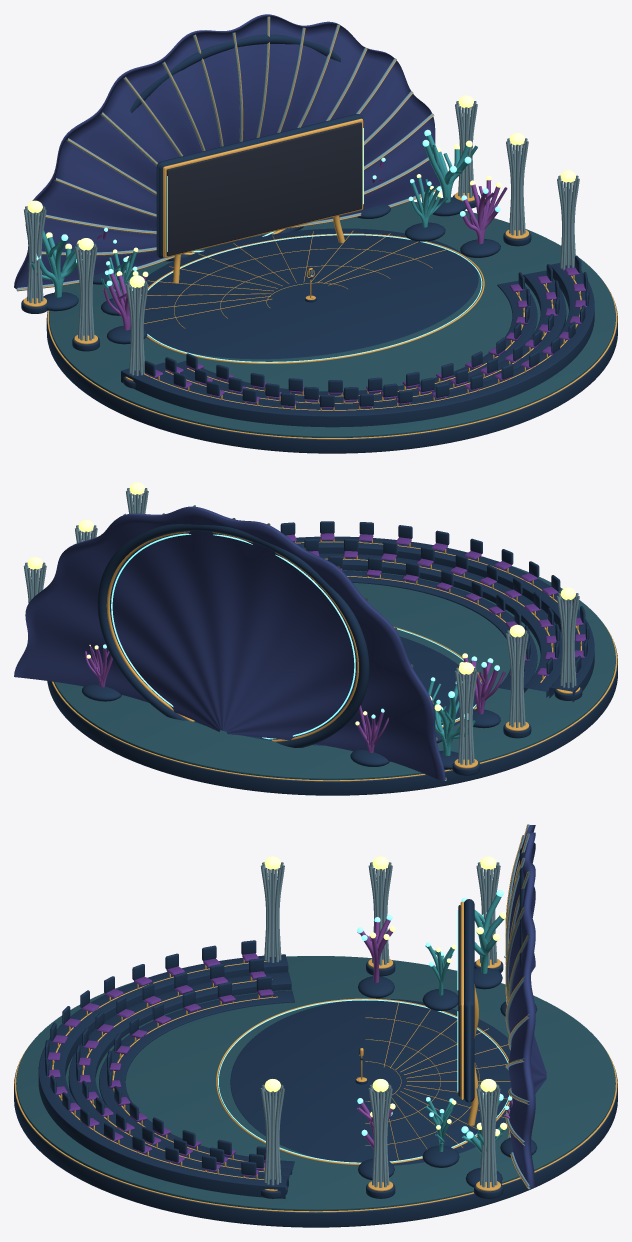
Rendered from theater-f48d11e84be4.glb.
3 views of the same model, one above another, from view 1: azimuth 30°, elevation 25°; view 2: azimuth 150°, elevation 25°; view 3: azimuth 270°, elevation 25° (orthographic). The views are drawn at different scales.
Visible parts, largest first — view 1: Theatre_Midnight_glazed_porcelain, Theatre_Iridescent_indigo_shell, Theatre_Deep_lagoon_limestone, Theatre_Graphite_microphone_grille, Theatre_Warm_pearl_shell, Theatre_Champagne_brushed_metal, Theatre_Lagoon_mineral, Theatre_Violet_velvet, Theatre_Amethyst_coral, Theatre_Turquoise_light, Theatre_Honey_light; view 2: Theatre_Iridescent_indigo_shell, Theatre_Midnight_glazed_porcelain, Theatre_Deep_lagoon_limestone, Theatre_Warm_pearl_shell, Theatre_Champagne_brushed_metal, Theatre_Violet_velvet, Theatre_Amethyst_coral, Theatre_Turquoise_light, Theatre_Honey_light, Theatre_Lagoon_mineral; view 3: Theatre_Midnight_glazed_porcelain, Theatre_Deep_lagoon_limestone, Theatre_Warm_pearl_shell, Theatre_Champagne_brushed_metal, Theatre_Iridescent_indigo_shell, Theatre_Violet_velvet, Theatre_Lagoon_mineral, Theatre_Turquoise_light, Theatre_Honey_light, Theatre_Amethyst_coral, Theatre_Graphite_microphone_grille.
Boxes of the visible parts, left/top/right/bottom form: Theatre_Midnight_glazed_porcelain: left=21, top=34, right=617, bottom=453; Theatre_Iridescent_indigo_shell: left=14, top=14, right=440, bottom=289; Theatre_Deep_lagoon_limestone: left=49, top=201, right=615, bottom=437; Theatre_Graphite_microphone_grille: left=166, top=122, right=361, bottom=275; Theatre_Warm_pearl_shell: left=16, top=16, right=579, bottom=375; Theatre_Champagne_brushed_metal: left=18, top=17, right=617, bottom=439; Theatre_Lagoon_mineral: left=30, top=134, right=477, bottom=298; Theatre_Violet_velvet: left=146, top=267, right=586, bottom=408; Theatre_Amethyst_coral: left=97, top=161, right=507, bottom=330; Theatre_Turquoise_light: left=36, top=128, right=500, bottom=362; Theatre_Honey_light: left=27, top=95, right=575, bottom=287; Theatre_Iridescent_indigo_shell: left=14, top=506, right=445, bottom=781; Theatre_Midnight_glazed_porcelain: left=47, top=521, right=617, bottom=795; Theatre_Deep_lagoon_limestone: left=53, top=561, right=615, bottom=780; Theatre_Warm_pearl_shell: left=23, top=488, right=579, bottom=780; Theatre_Champagne_brushed_metal: left=52, top=506, right=617, bottom=781; Theatre_Violet_velvet: left=286, top=533, right=585, bottom=676; Theatre_Amethyst_coral: left=85, top=646, right=505, bottom=752; Theatre_Turquoise_light: left=103, top=533, right=499, bottom=739; Theatre_Honey_light: left=27, top=482, right=575, bottom=725; Theatre_Lagoon_mineral: left=428, top=680, right=475, bottom=755; Theatre_Midnight_glazed_porcelain: left=14, top=848, right=617, bottom=1227; Theatre_Deep_lagoon_limestone: left=16, top=956, right=615, bottom=1211; Theatre_Warm_pearl_shell: left=260, top=824, right=530, bottom=1189; Theatre_Champagne_brushed_metal: left=14, top=824, right=617, bottom=1212; Theatre_Iridescent_indigo_shell: left=508, top=825, right=546, bottom=1187; Theatre_Violet_velvet: left=47, top=953, right=273, bottom=1176; Theatre_Lagoon_mineral: left=425, top=894, right=504, bottom=1164; Theatre_Turquoise_light: left=218, top=890, right=512, bottom=1163; Theatre_Honey_light: left=264, top=856, right=507, bottom=1136; Theatre_Amethyst_coral: left=357, top=919, right=512, bottom=1148; Theatre_Graphite_microphone_grille: left=359, top=905, right=460, bottom=1096.
Size of the model in its own units: 28 by 12.68 by 28.
